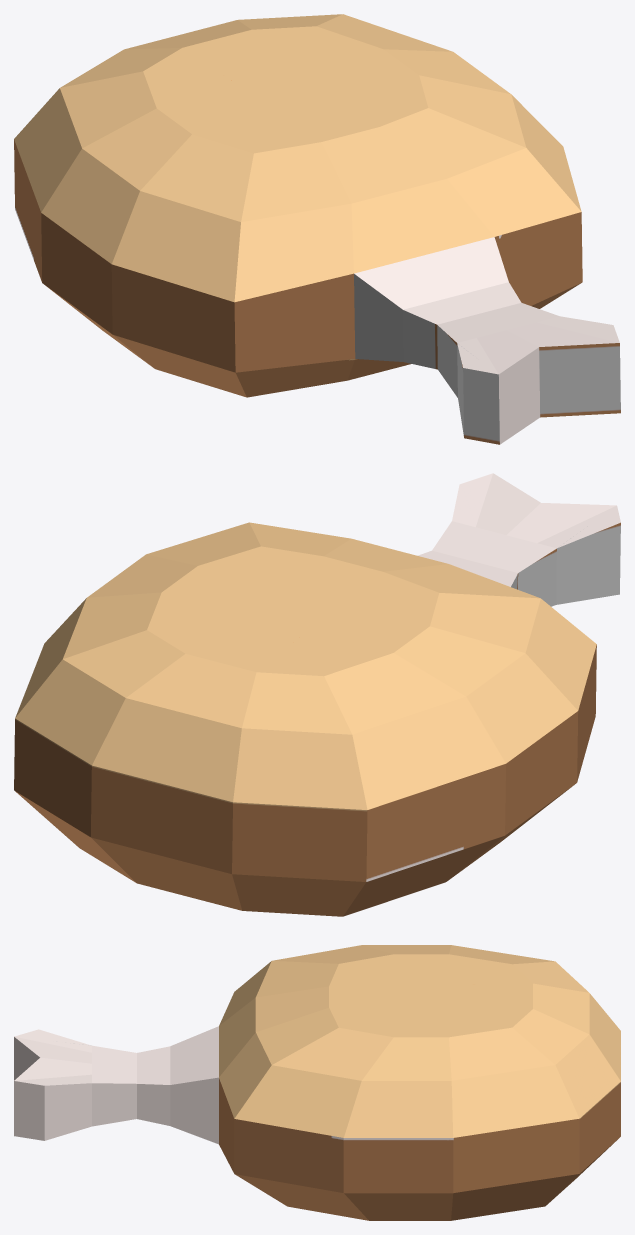
The model's file is Fixed_Chicken.fbx.
3 views of the same model, one above another, from view 1: azimuth 30°, elevation 25°; view 2: azimuth 150°, elevation 25°; view 3: azimuth 270°, elevation 25° (orthographic). The views are drawn at different scales.
Visible parts, largest first — view 1: Plane; view 2: Plane; view 3: Plane.
Boxes of the visible parts, x1,y1,x2,y2 form: Plane: (14,14,620,444); Plane: (14,473,620,916); Plane: (14,945,620,1220).
Bounding box in the file's own units: 100 × 50.69 × 150.
